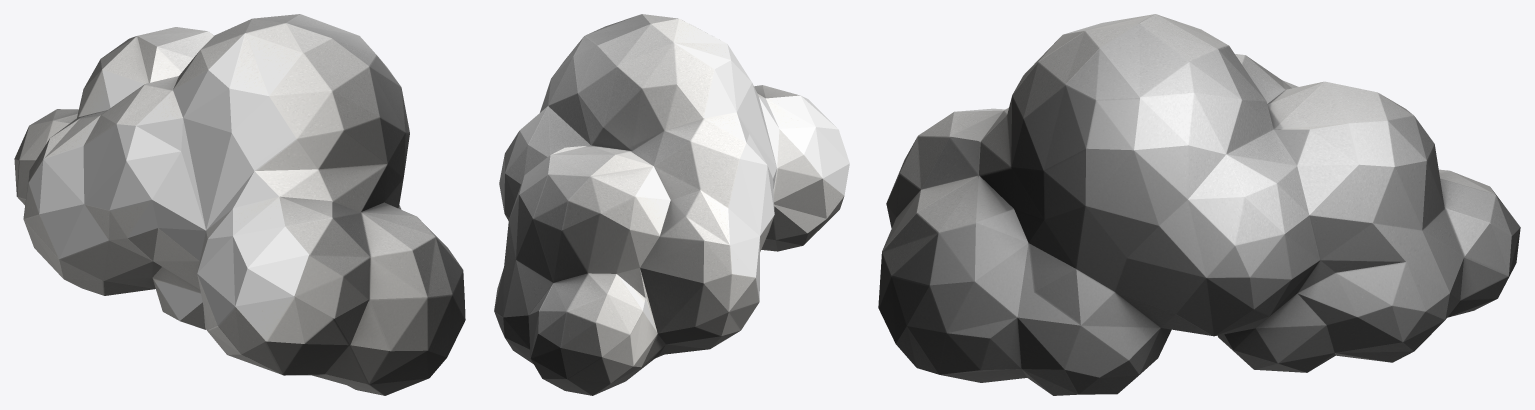
Rendered from cloud.glb.
3 renders of one model, left to right at view 1: azimuth 30°, elevation 25°; view 2: azimuth 150°, elevation 25°; view 3: azimuth 270°, elevation 25°, orthographic. The views are drawn at different scales.
Parts seen in each view (by area): view 1: Polygon_UV; view 2: Polygon_UV; view 3: Polygon_UV.
Part boxes in pixels (x1,y1,x2,y2): Polygon_UV: [14, 14, 465, 395]; Polygon_UV: [494, 14, 849, 395]; Polygon_UV: [878, 14, 1520, 395].
Bounding box in the file's own units: 1.16 × 1.14 × 1.91.
1 material, 1 textured.
